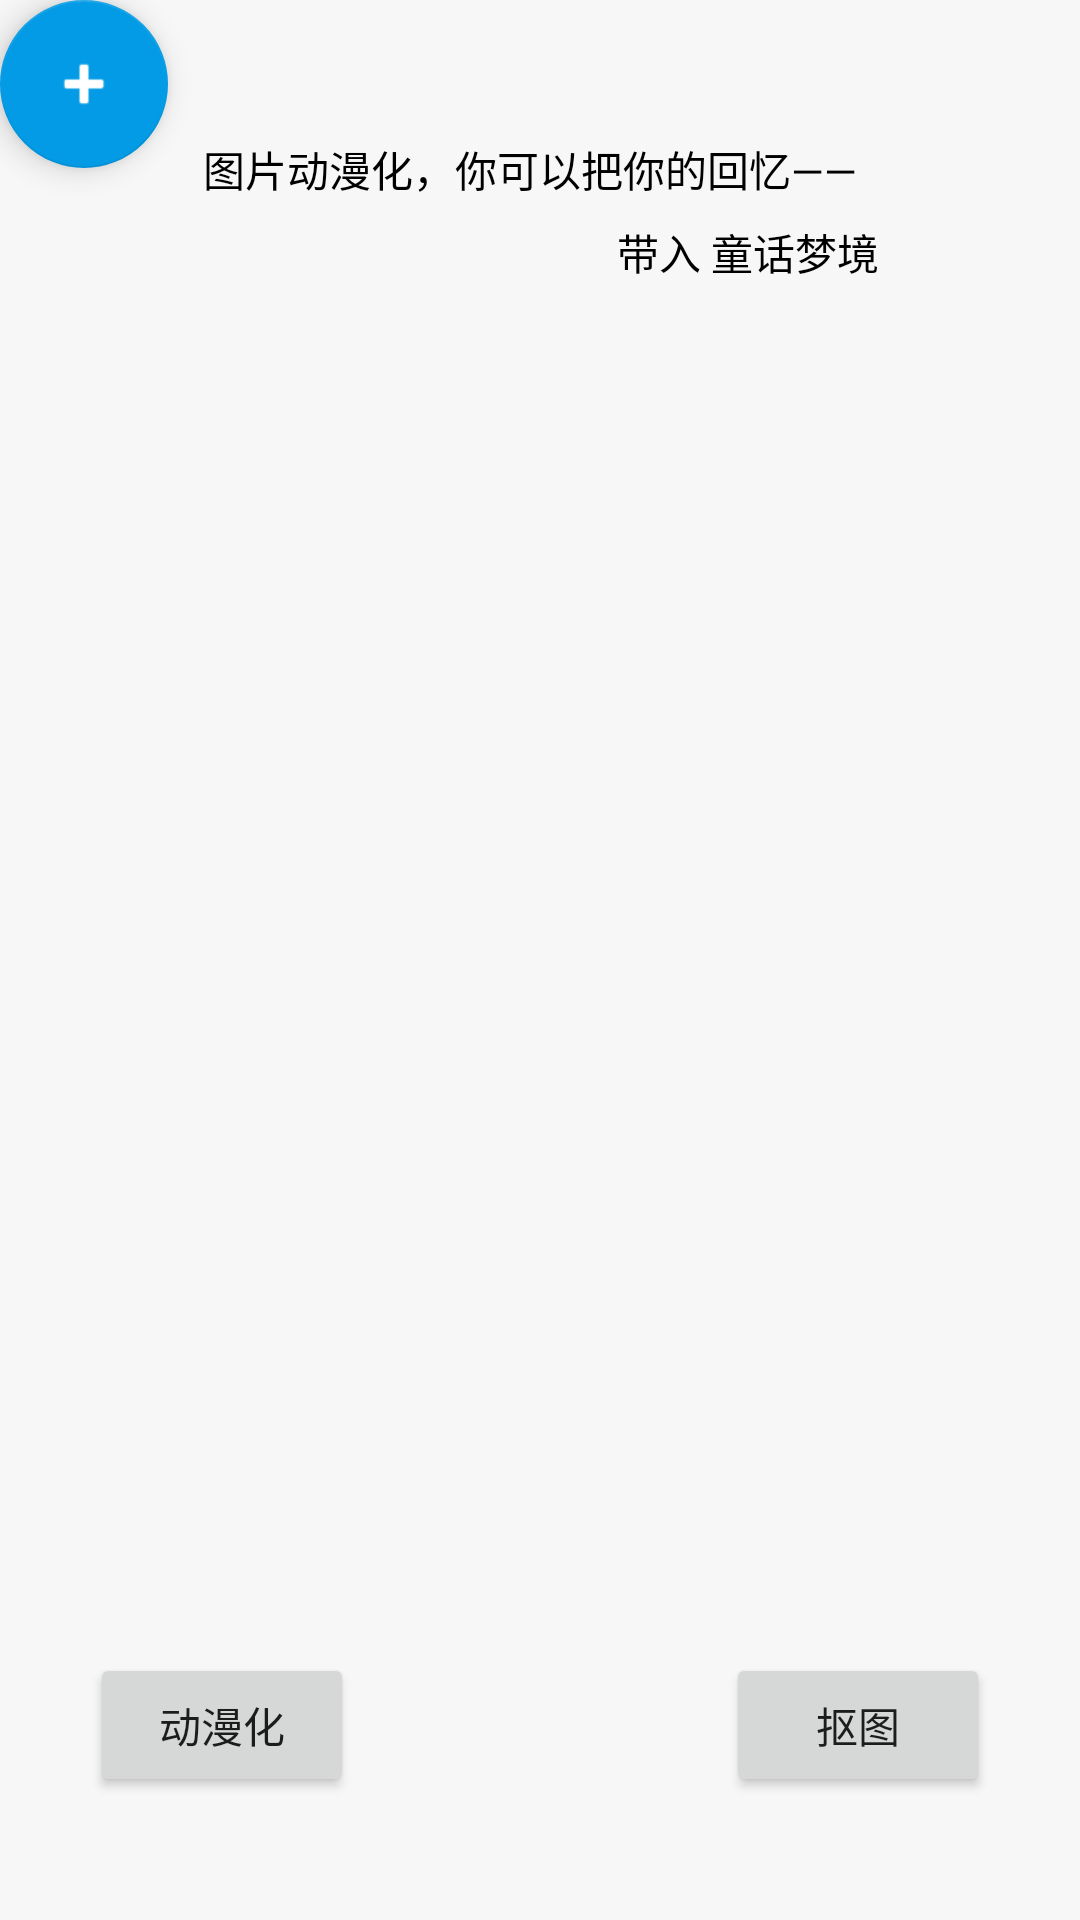

Where to tap for icons on this 1080px x 1920px app screen, as [x,y]:
add: [84,84]
